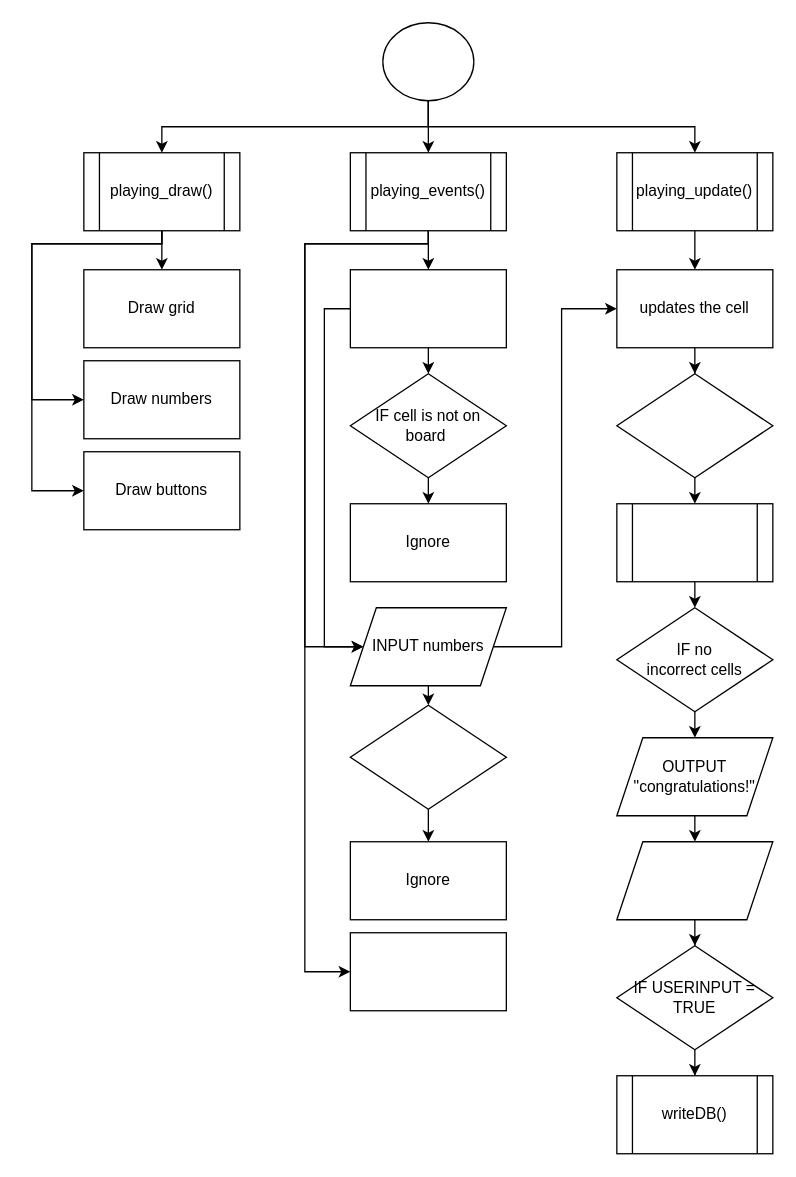
The diagram is 796 pixels wide and 1177 high, and some of its shapes have lost their labels. Each missing label, with the box of its shape:
checkAllCells(): (616, 502, 773, 582)
IF all cells finished: (616, 372, 773, 478)
IF cell is LOCKED: (349, 704, 506, 809)
OUTPUT "Do you want to save your time?": (616, 840, 773, 920)
Selecting cells: (349, 268, 506, 348)
Start: (382, 21, 474, 101)
Starting timer: (349, 931, 506, 1011)
